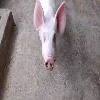heo: (32, 1, 68, 72)
